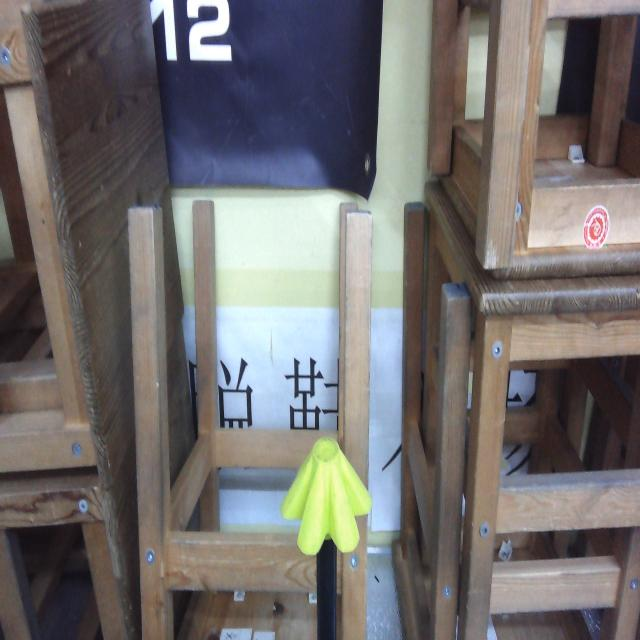Yellow-Stake-Head: (280, 437, 373, 555)
